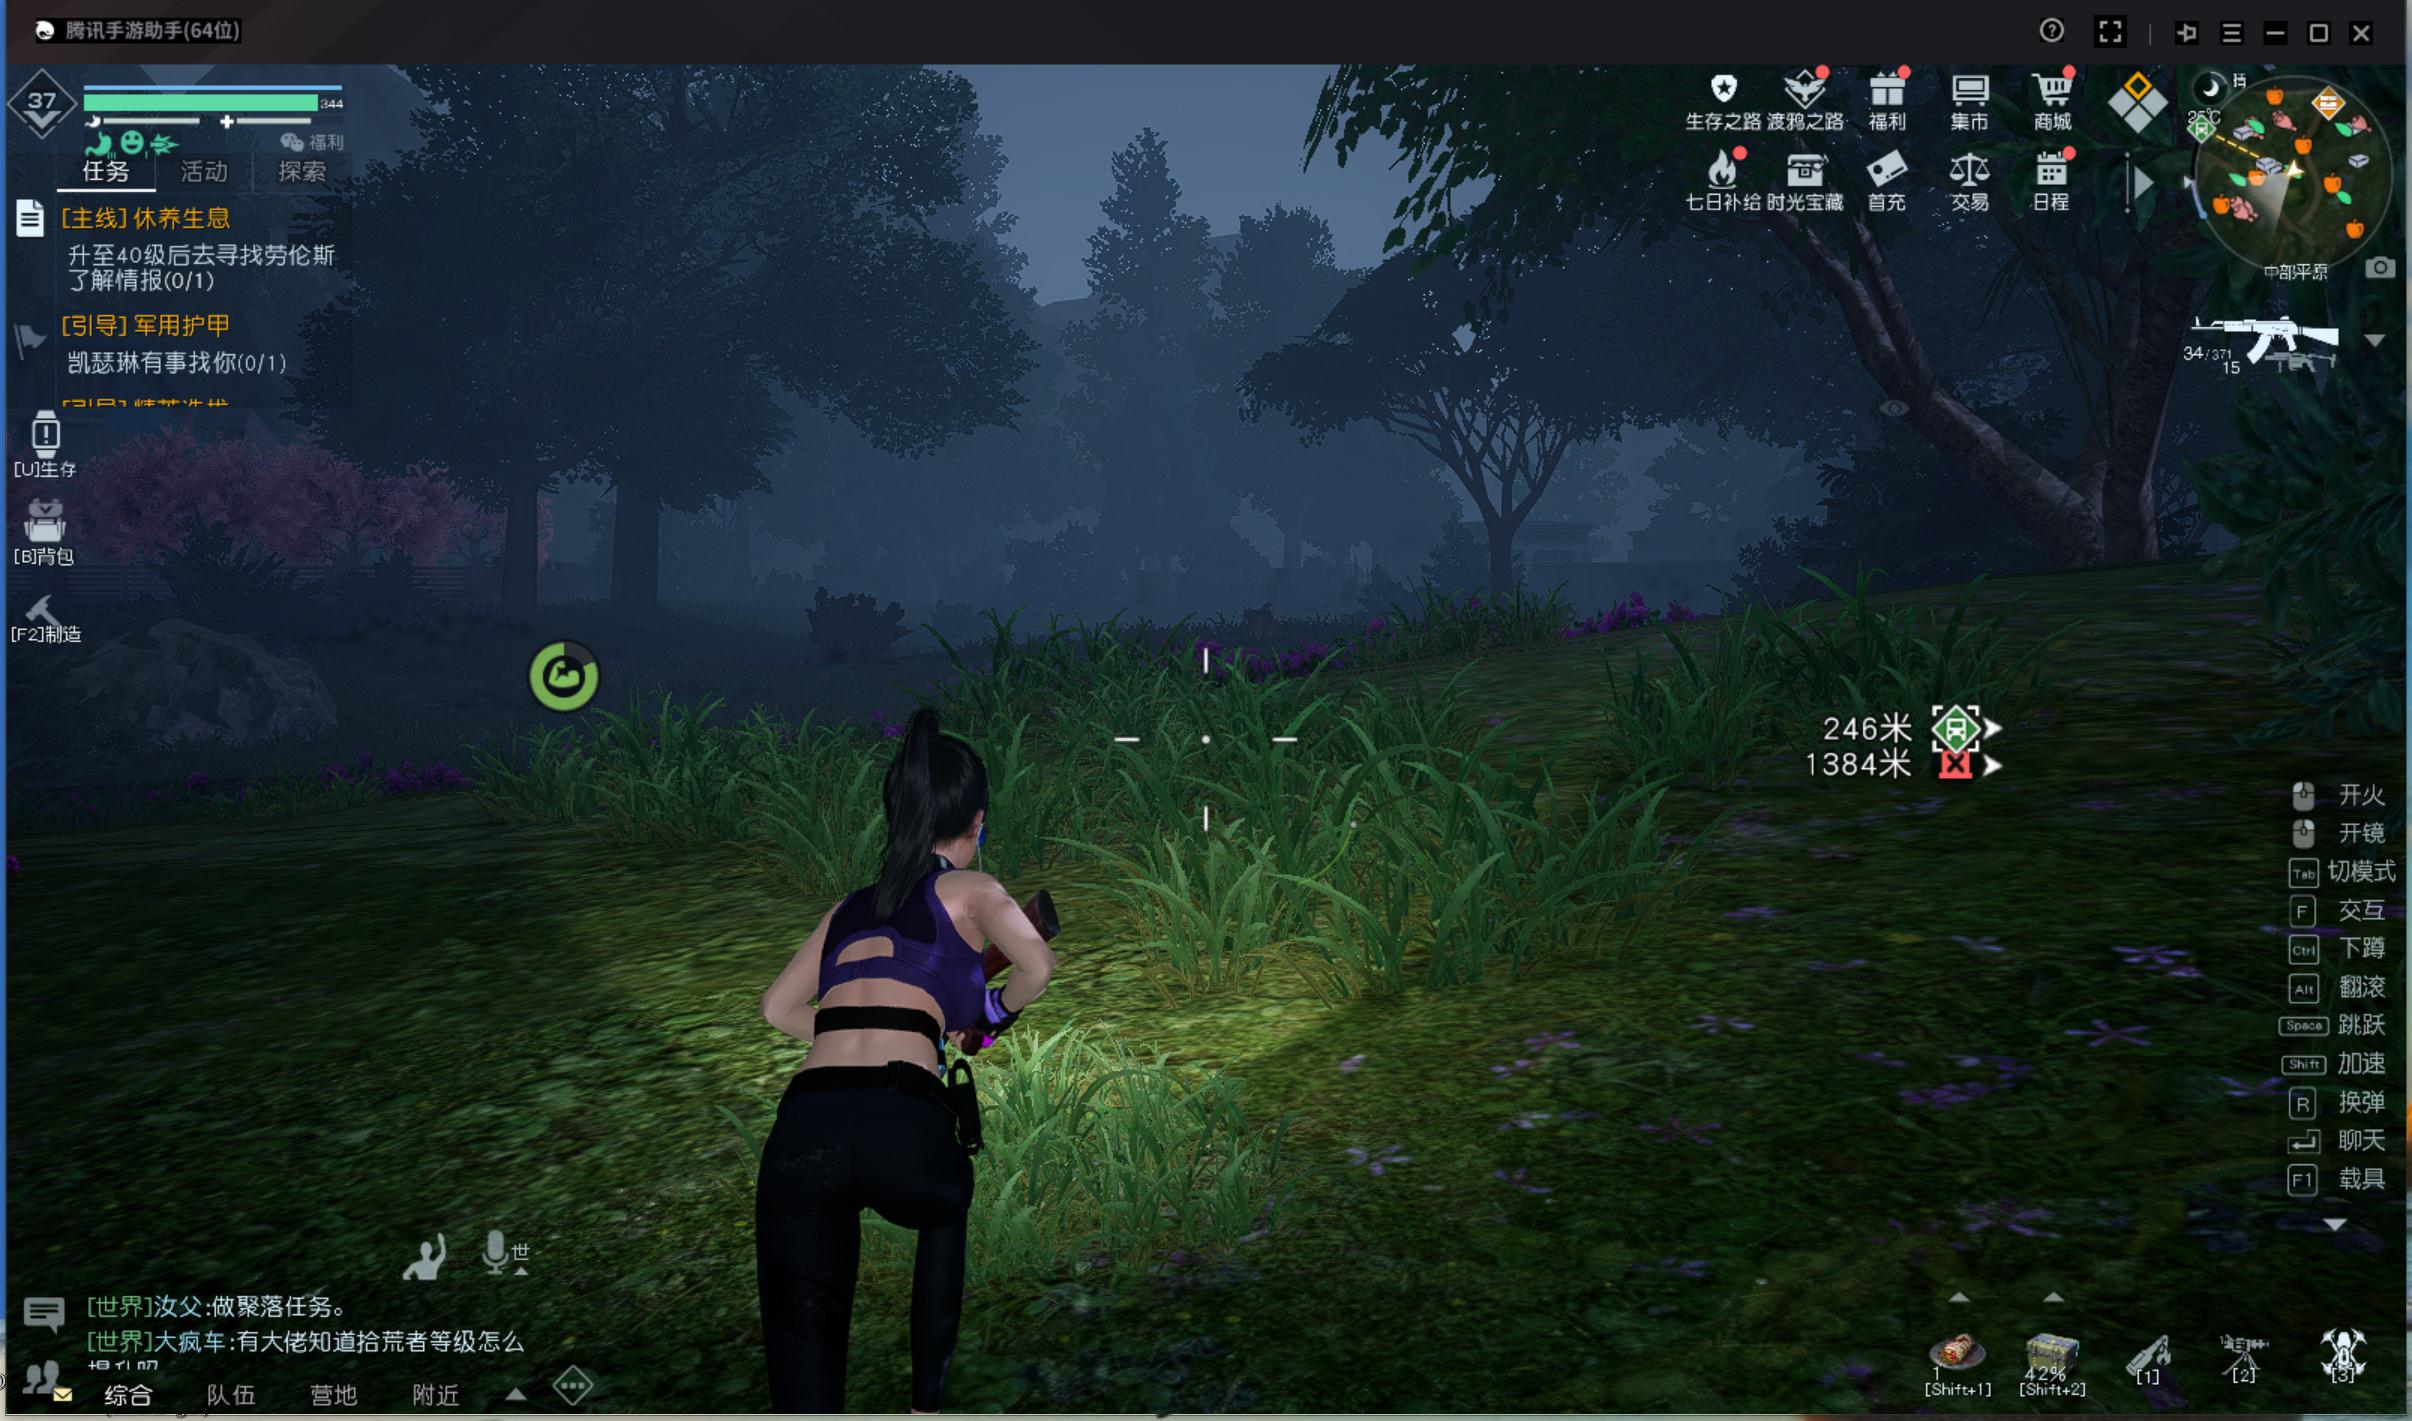tree: (604, 487, 673, 623), (1472, 518, 1539, 639), (489, 501, 553, 621)
